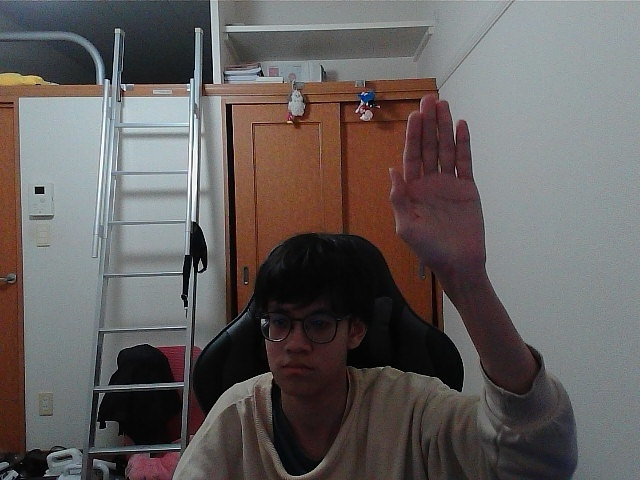open_palm: (397, 102, 466, 263)
